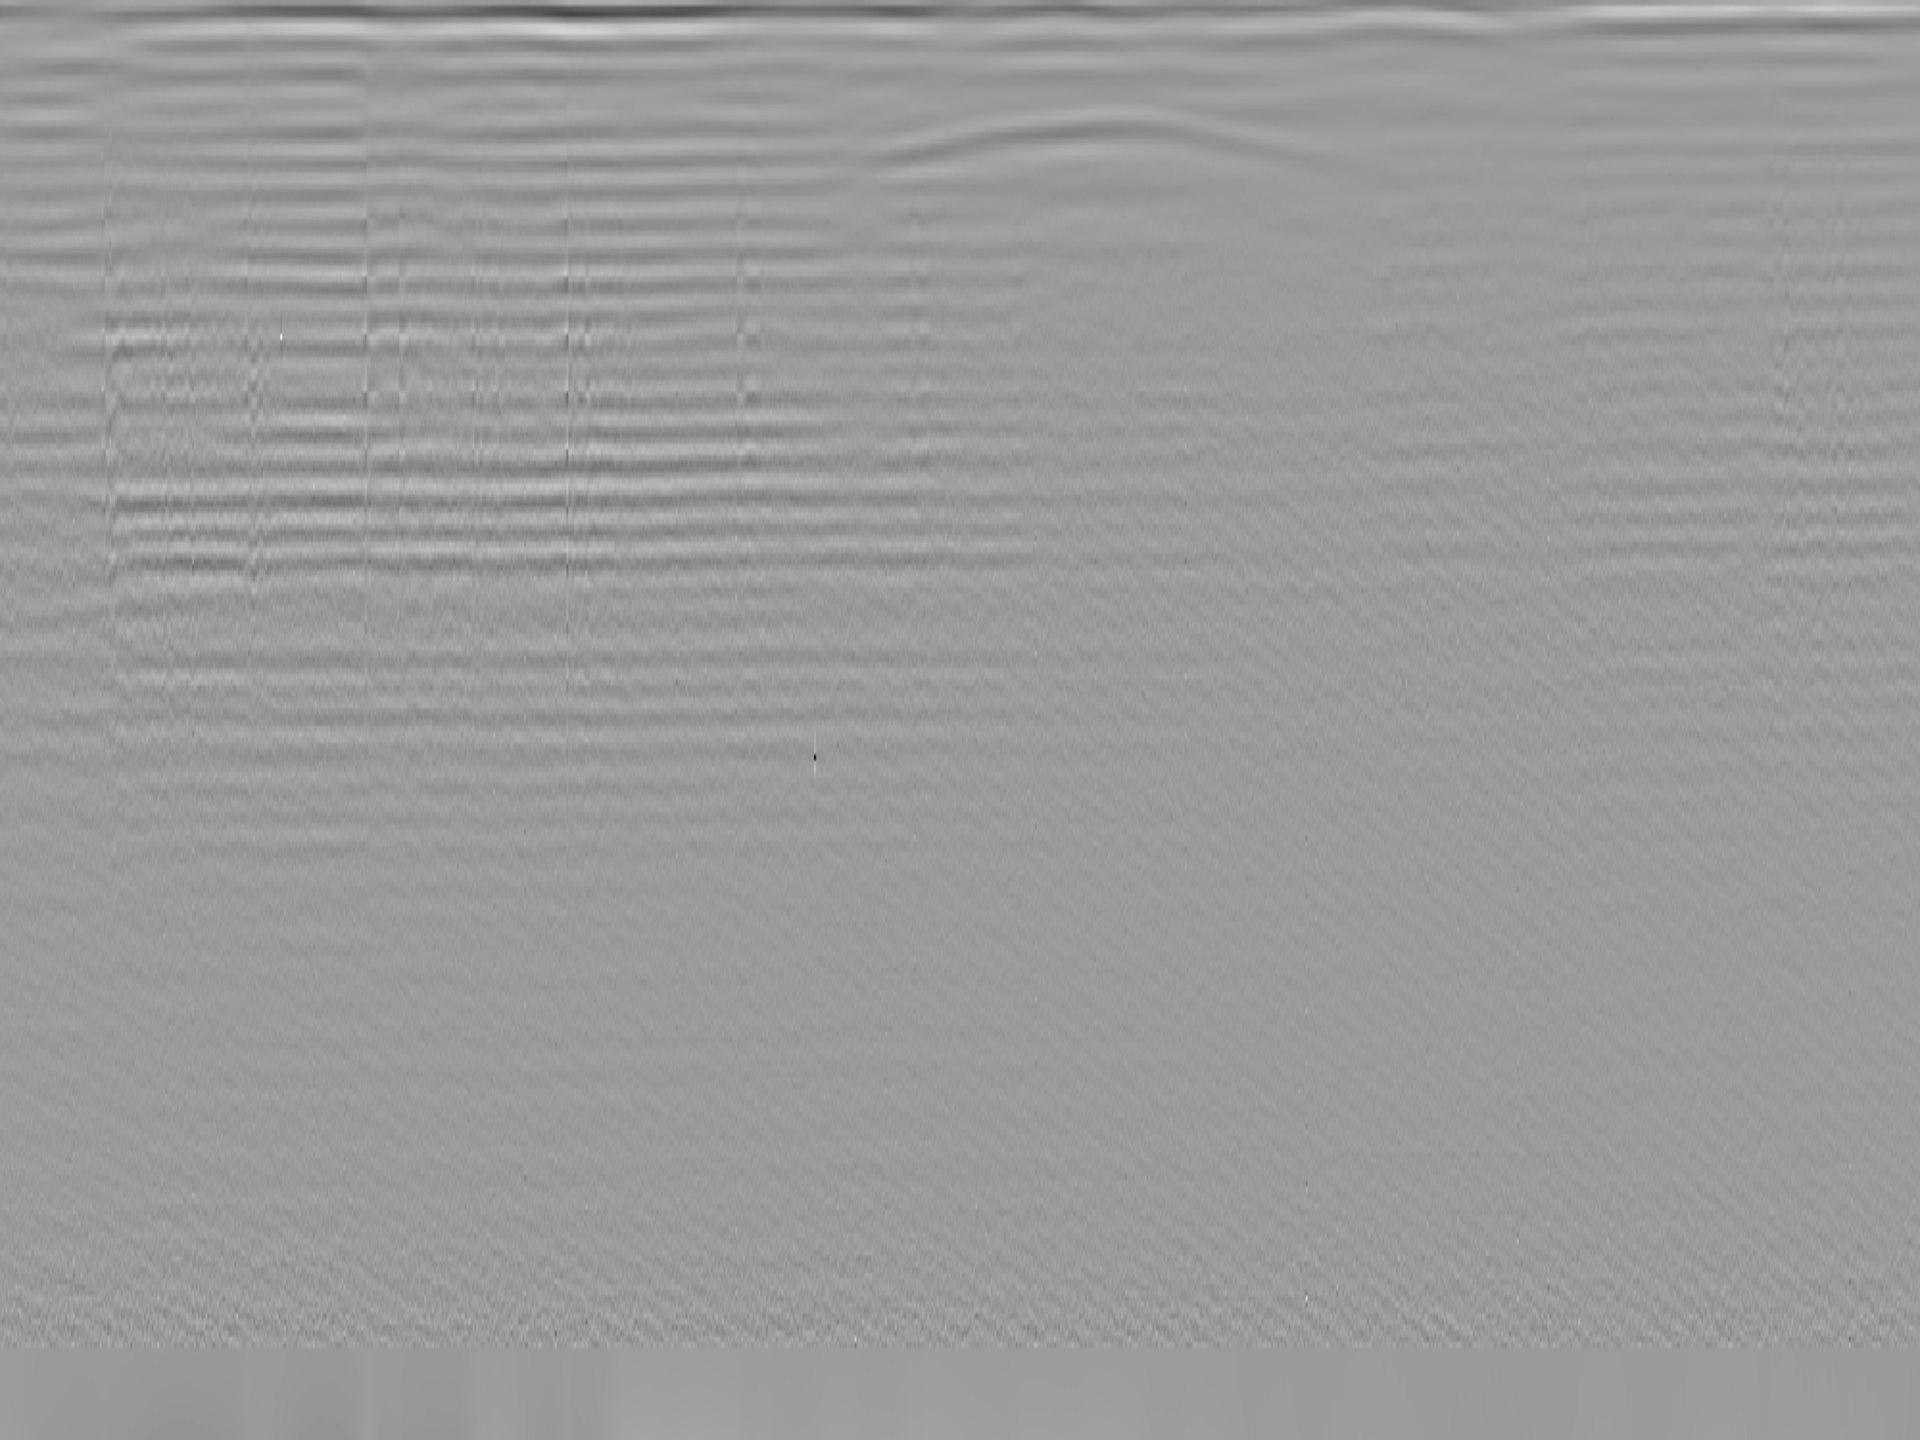Tunnel: (862, 106, 1374, 182)
